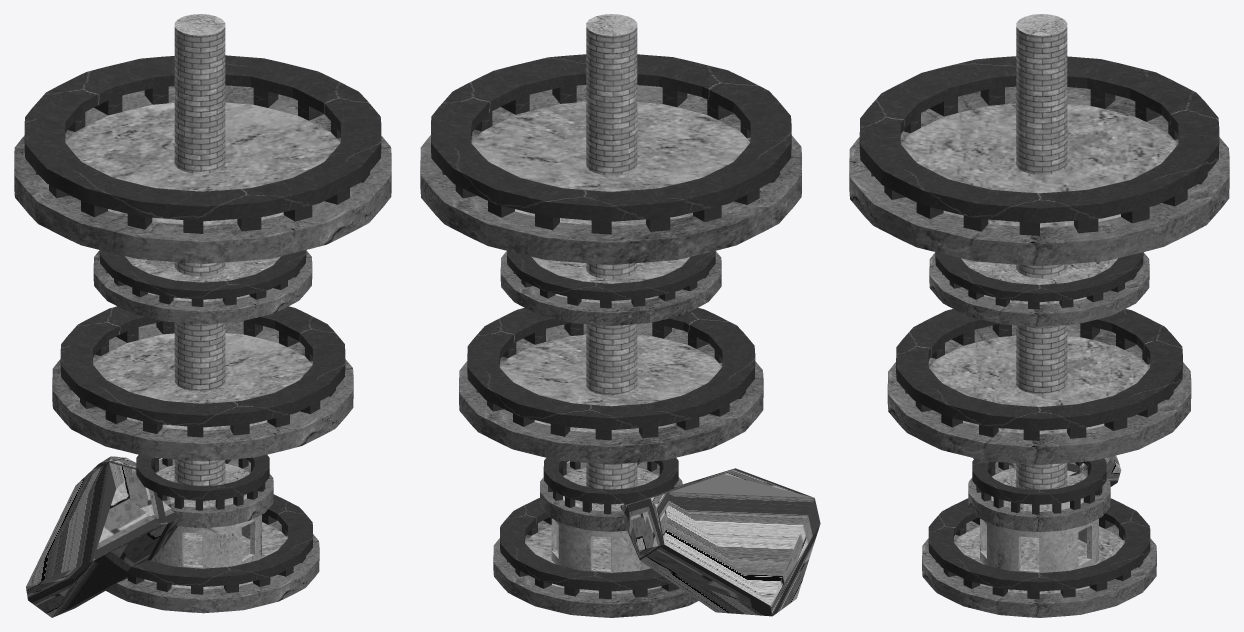
The model's file is tower_center_normal.fbx.
3 views of the same model, side by side, from view 1: azimuth 30°, elevation 25°; view 2: azimuth 150°, elevation 25°; view 3: azimuth 270°, elevation 25° (orthographic).
Visible parts, largest first — view 1: Cylinder020, Cylinder020_cell.041, Cylinder020_cell.021, Cylinder020_cell.052, Cylinder020_cell.074, Cylinder020_cell.001, Cylinder020_cell.029, Cylinder020_cell.083, Cylinder020_cell.018, Cylinder020_cell.020, Cylinder020_cell.027, Cylinder020_cell.042 (+14 smaller); view 2: Cylinder020, Cylinder020_cell.041, Cylinder020_cell.038, Cylinder020_cell.042, Cylinder020_cell.052, Cylinder020_cell.018, Cylinder020_cell.040, Cylinder020_cell.020, Cylinder020_cell.083, Cylinder020_cell.061, Cylinder020_cell.054; view 3: Cylinder020, Cylinder020_cell.018, Cylinder020_cell.004, Cylinder020_cell.042, Cylinder020_cell.052, Cylinder020_cell.021, Cylinder020_cell.038, Cylinder020_cell.020, Cylinder020_cell.080, Cylinder020_cell.014, Cylinder020_cell.040, Cylinder020_cell.081 (+11 smaller).
Part boxes in pixels (x1,y1,x2,y2): Cylinder020: [14, 14, 391, 613]; Cylinder020_cell.041: [26, 456, 181, 617]; Cylinder020_cell.021: [178, 27, 225, 147]; Cylinder020_cell.052: [225, 76, 366, 141]; Cylinder020_cell.074: [148, 392, 315, 461]; Cylinder020_cell.001: [183, 195, 309, 263]; Cylinder020_cell.029: [71, 384, 154, 449]; Cylinder020_cell.083: [23, 169, 102, 247]; Cylinder020_cell.018: [232, 313, 353, 410]; Cylinder020_cell.020: [14, 70, 150, 151]; Cylinder020_cell.027: [165, 284, 261, 324]; Cylinder020_cell.042: [113, 455, 273, 599]; Cylinder020: [420, 14, 801, 617]; Cylinder020_cell.041: [620, 468, 820, 616]; Cylinder020_cell.038: [493, 511, 698, 617]; Cylinder020_cell.042: [540, 458, 678, 572]; Cylinder020_cell.052: [420, 84, 550, 179]; Cylinder020_cell.018: [459, 308, 547, 409]; Cylinder020_cell.040: [658, 400, 749, 453]; Cylinder020_cell.020: [515, 179, 701, 242]; Cylinder020_cell.083: [740, 143, 801, 229]; Cylinder020_cell.061: [442, 155, 520, 191]; Cylinder020_cell.054: [493, 544, 524, 599]; Cylinder020: [849, 14, 1229, 617]; Cylinder020_cell.018: [933, 404, 1138, 464]; Cylinder020_cell.004: [896, 177, 1018, 263]; Cylinder020_cell.042: [968, 458, 1109, 572]; Cylinder020_cell.052: [1009, 180, 1138, 265]; Cylinder020_cell.021: [1016, 27, 1044, 151]; Cylinder020_cell.038: [922, 499, 1156, 616]; Cylinder020_cell.020: [1114, 81, 1229, 166]; Cylinder020_cell.080: [858, 172, 911, 244]; Cylinder020_cell.014: [1090, 334, 1149, 376]; Cylinder020_cell.040: [1067, 324, 1115, 360]; Cylinder020_cell.081: [995, 282, 1067, 326].
Bounding box in the file's own units: 950 × 1472 × 933.
